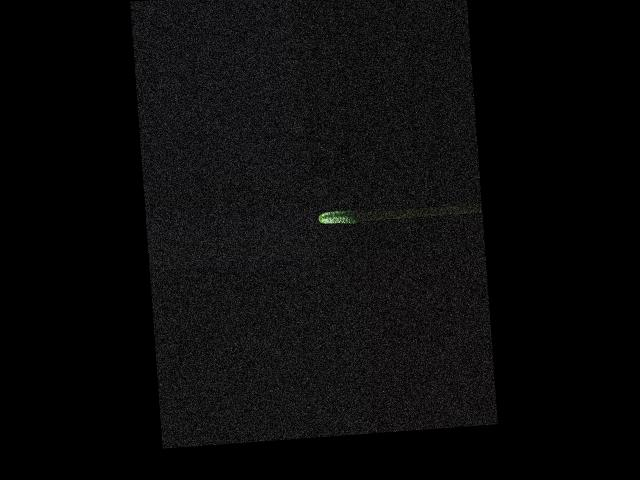cucumber: (318, 209, 360, 226)
